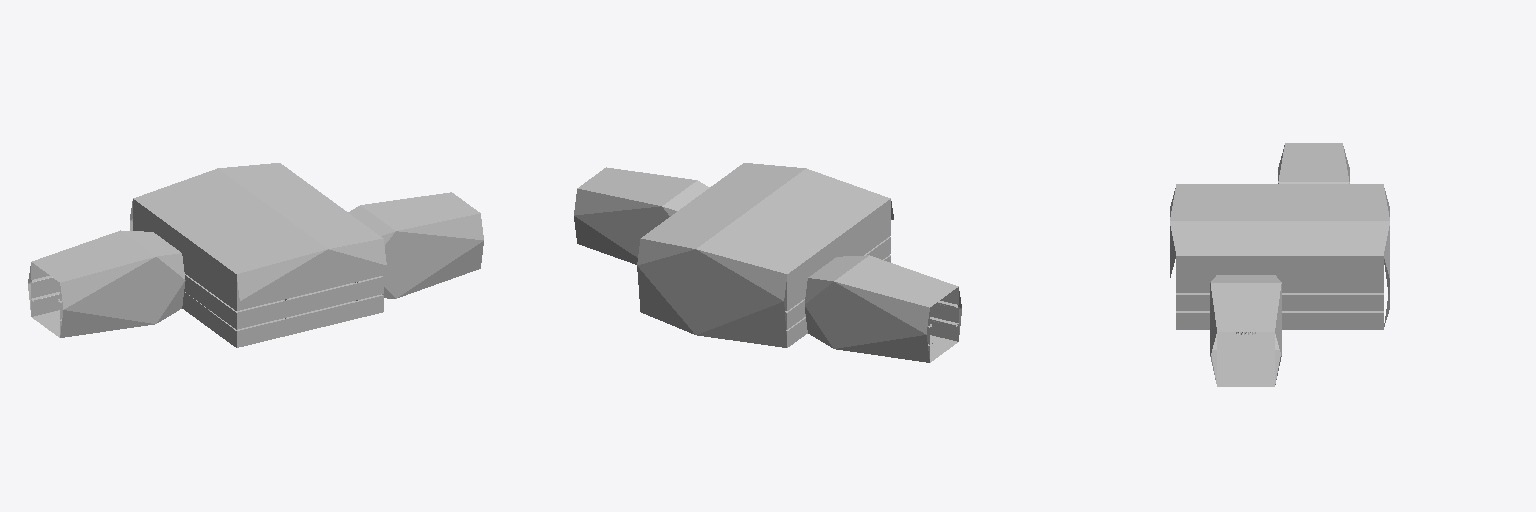
Rendered from Room2.obj.
3 views of the same model, side by side, from view 1: azimuth 30°, elevation 25°; view 2: azimuth 150°, elevation 25°; view 3: azimuth 270°, elevation 25° (orthographic).
Parts seen in each view (by area): view 1: Cube.026_Cube.006; view 2: Cube.026_Cube.006; view 3: Cube.026_Cube.006.
Part boxes in pixels (bbox=[...]): Cube.026_Cube.006: bbox=[28, 163, 483, 347]; Cube.026_Cube.006: bbox=[574, 163, 961, 362]; Cube.026_Cube.006: bbox=[1170, 143, 1389, 386].
Size of the model in its own units: 65.76 by 14 by 32.5.